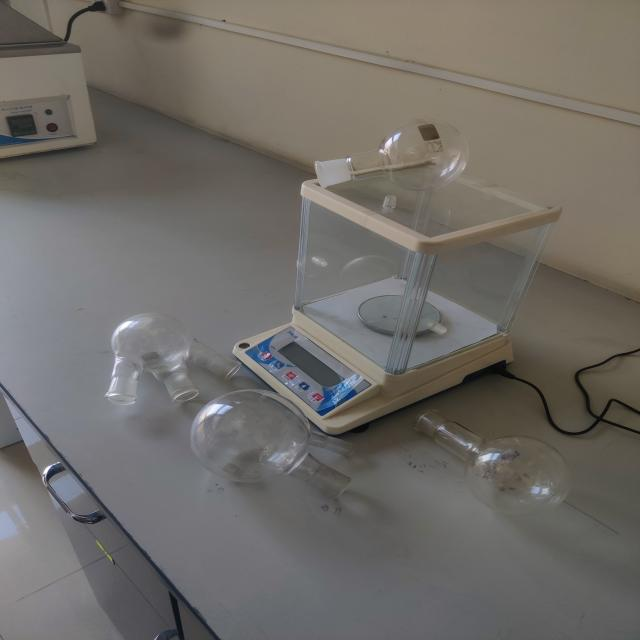Round_Bottom_Flask_Borosilicate_Glass_1_Neck: (400, 370, 598, 532), (278, 89, 502, 218)
Round_Bottom_Flask_Borosilicate_Glass_2_Neck: (171, 357, 386, 532)
Round_Bottom_Flask_Borosilicate_Glass_3_Neck: (77, 280, 263, 430)
